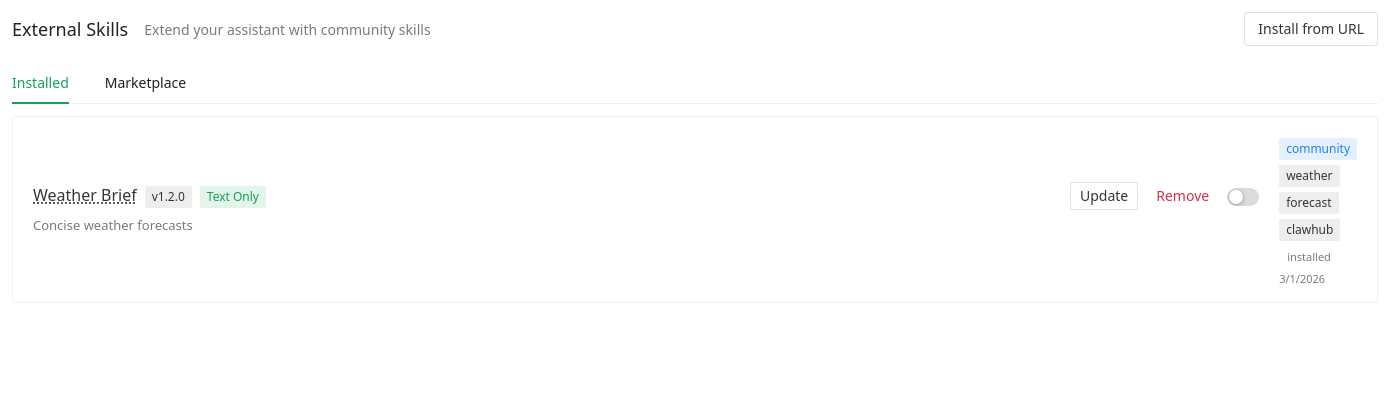
it: ExternalSkills.vue › Installed tab › shows warnings after update
Click the button "Update" at point(1104, 196), box [1070,182,1138,210]
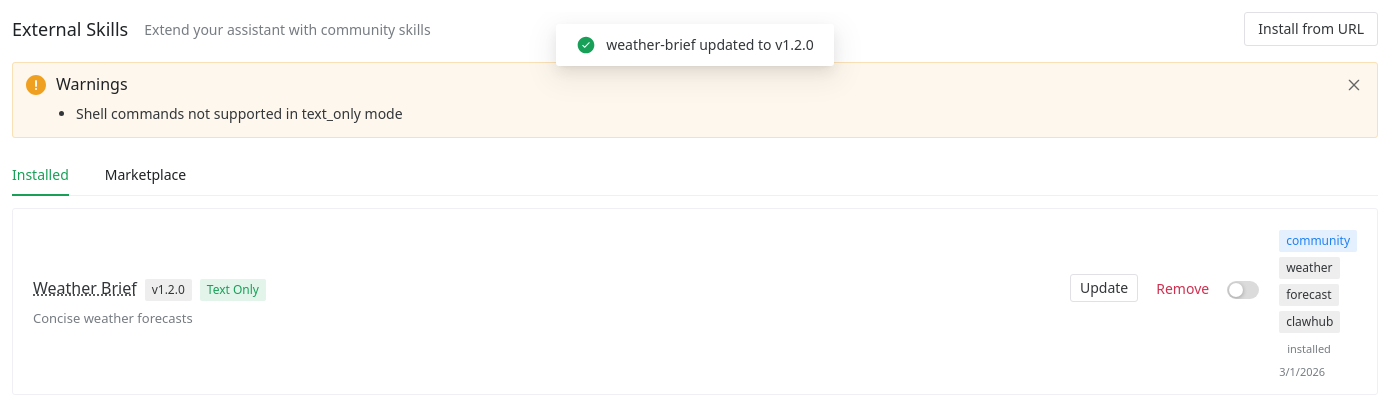
Check: the text "Warnings" is shown, box [56,73,128,95]
Check: the text "Shell commands not supported" is shown, box [76,104,403,123]
